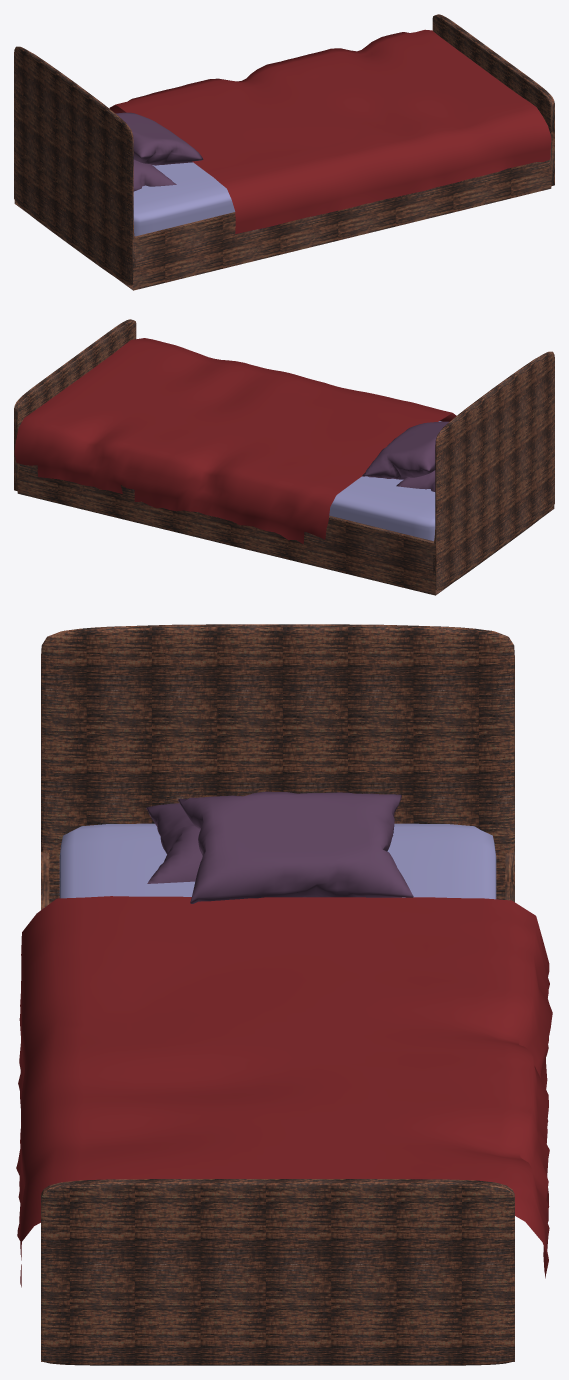
The model's file is Bed.fbx.
The picture shows the model from 3 angles, top to bottom: view 1: azimuth 30°, elevation 25°; view 2: azimuth 150°, elevation 25°; view 3: azimuth 270°, elevation 25°; orthographic projection. The views are drawn at different scales.
Parts seen in each view (by area): view 1: bedsheet, bed, mattress, pillow 2, pillow1; view 2: bedsheet, bed, mattress, pillow 2, pillow1; view 3: bed, bedsheet, pillow 2, mattress, pillow1.
Part boxes in pixels (<box>): bedsheet: <box>109,29,551,233</box>; bed: <box>14,14,554,290</box>; mattress: <box>133,162,235,236</box>; pillow 2: <box>116,112,203,165</box>; pillow1: <box>133,159,176,191</box>; bedsheet: <box>14,338,456,544</box>; bed: <box>14,319,554,595</box>; mattress: <box>329,421,441,541</box>; pillow 2: <box>362,421,449,479</box>; pillow1: <box>396,470,435,491</box>; bed: <box>41,624,514,1365</box>; bedsheet: <box>16,896,552,1287</box>; pillow 2: <box>178,791,413,903</box>; mattress: <box>59,823,496,899</box>; pillow1: <box>146,803,202,883</box>.
Bounding box in the file's own units: 415 × 153 × 226.
